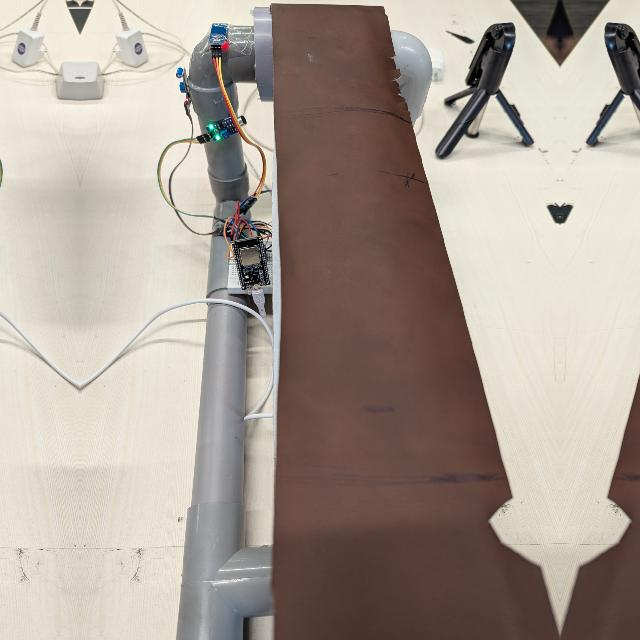belt_tear: (488, 479, 560, 595), (560, 479, 632, 595)
edge_damage: (378, 47, 429, 125)
